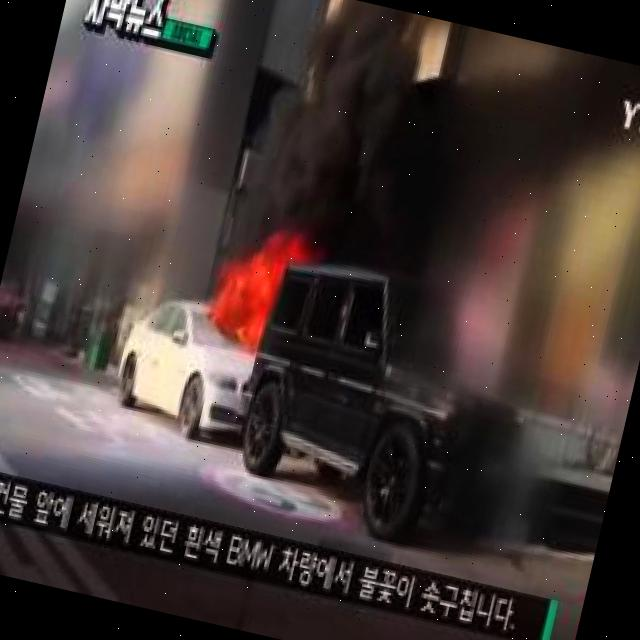fire: (222, 225, 316, 350)
